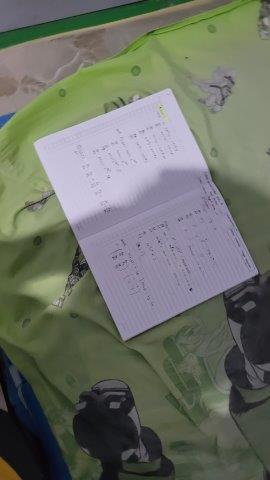kertas: (32, 88, 260, 342)
